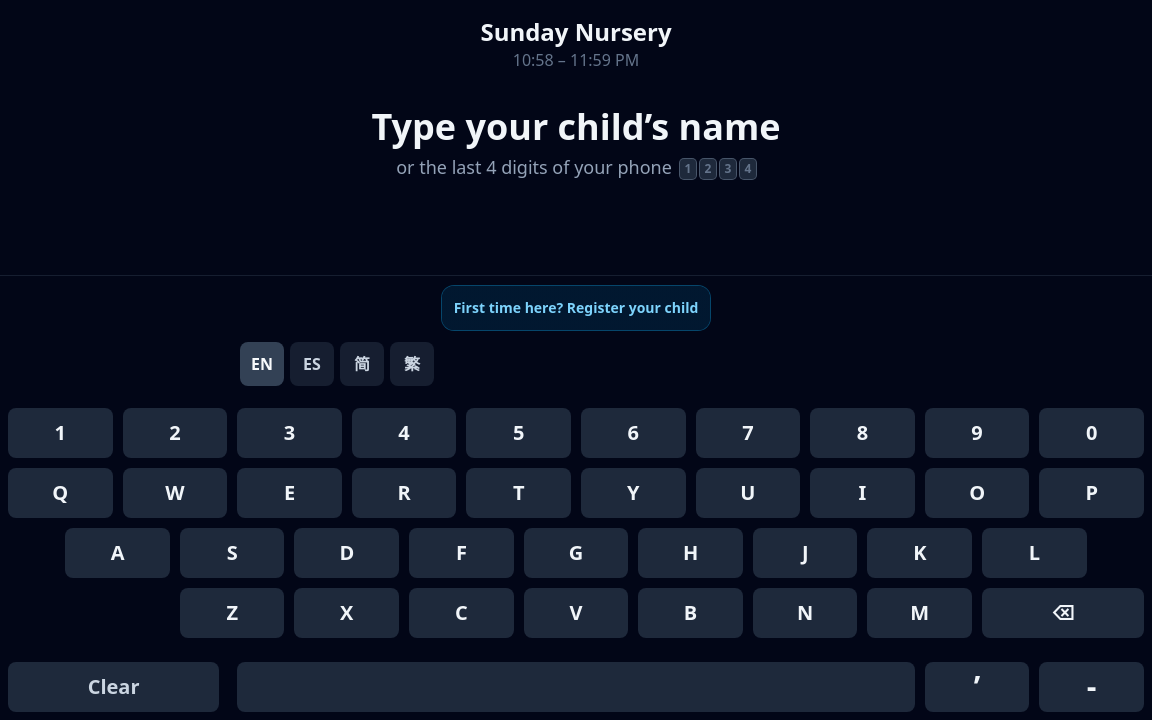
Test: finding a brother or sister the kiosk did not offer › is offered on a check-in
Press the mouse on the button "2" at [175, 433], box [123,408,227,458]
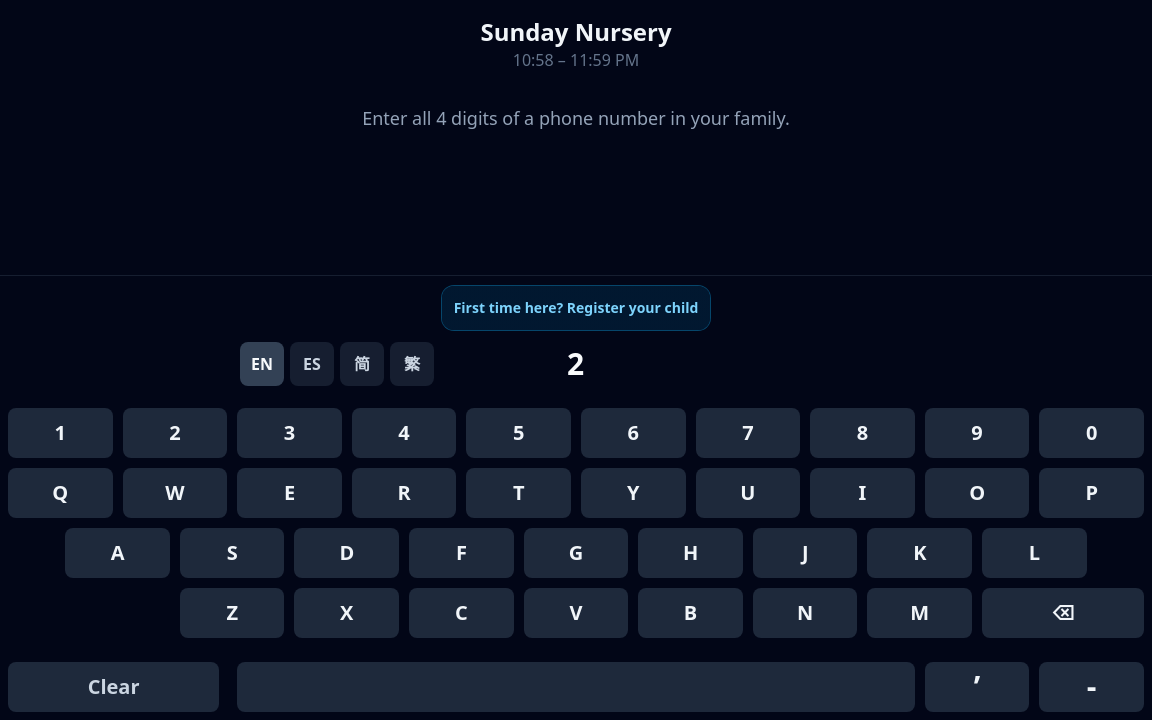
Press the mouse on the button "2" at [175, 433], box [123,408,227,458]
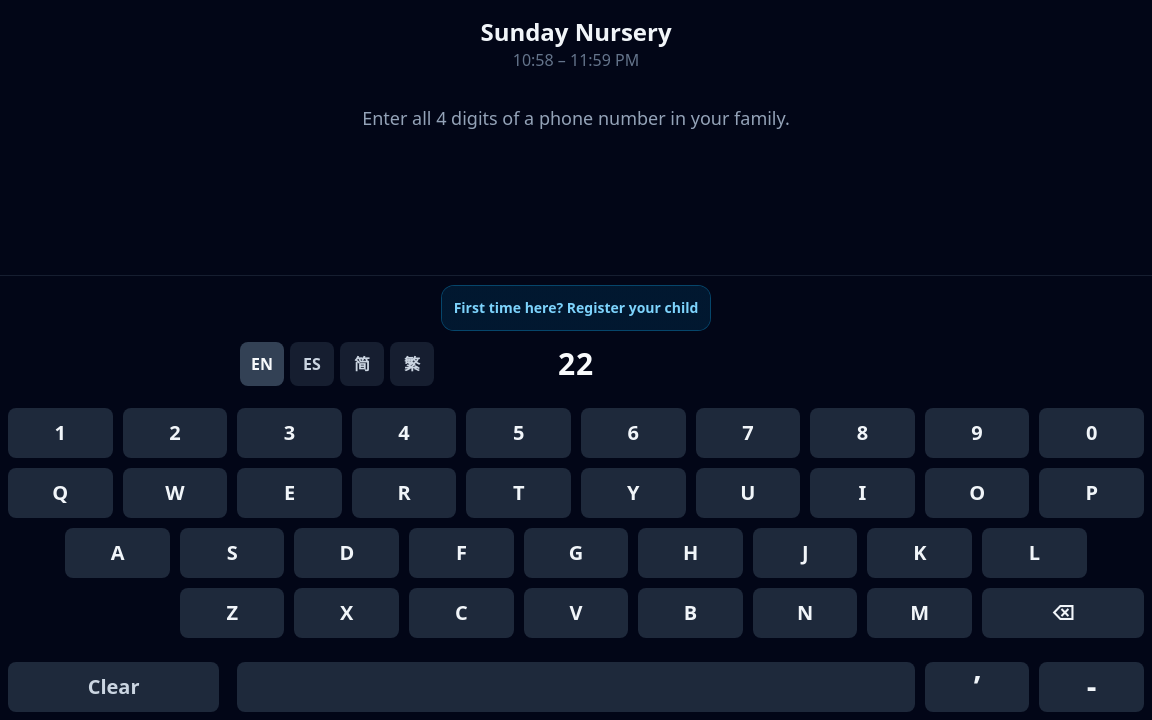
Press the mouse on the button "0" at [1092, 433], box [1039,408,1144,458]
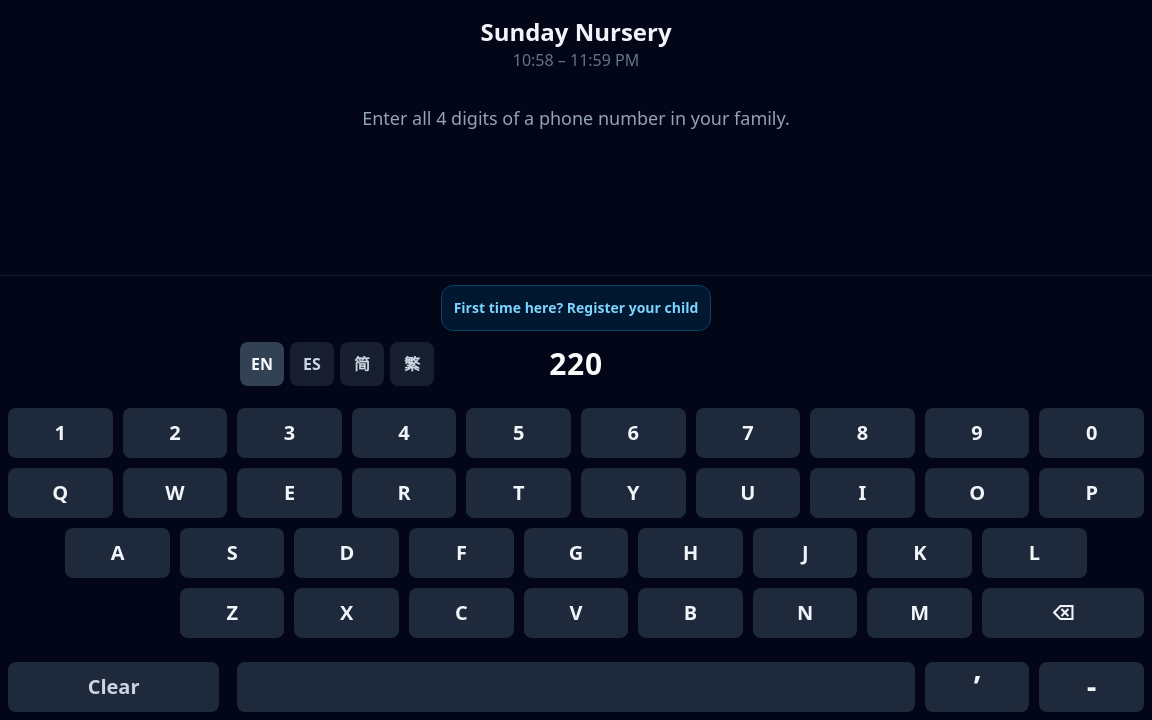
Press the mouse on the button "0" at [1092, 433], box [1039,408,1144,458]
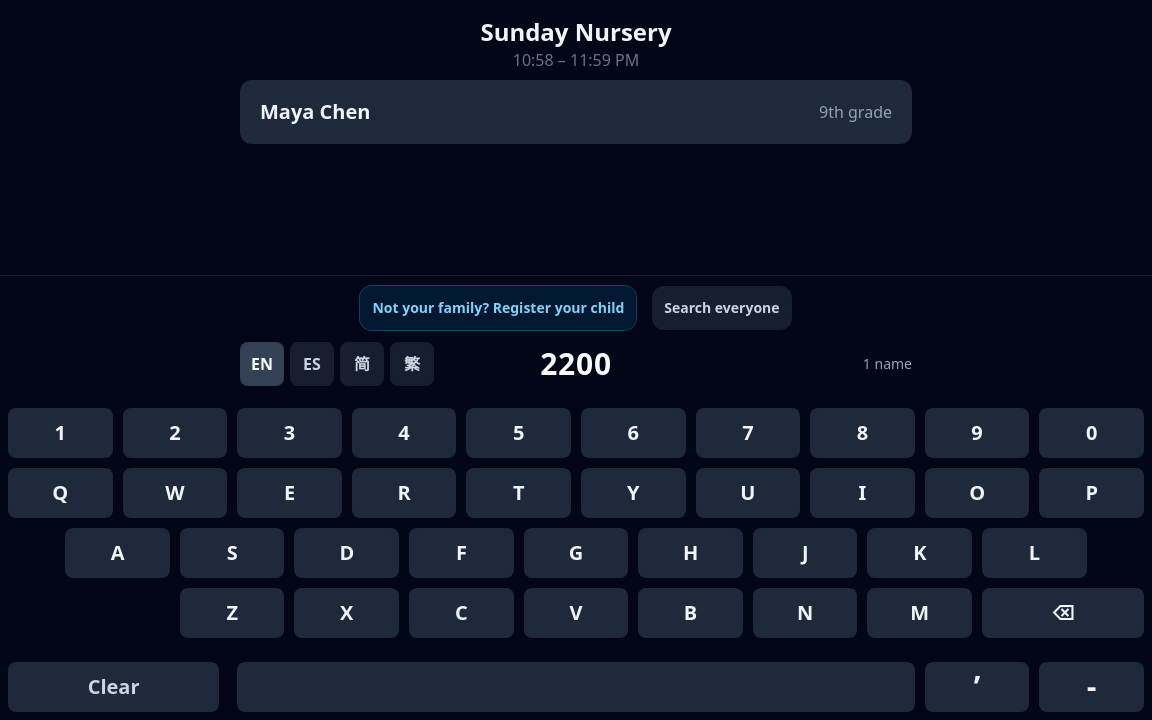
Press the mouse on the button "Maya Chen 9th grade" at [287, 112], box [240,80,912,144]
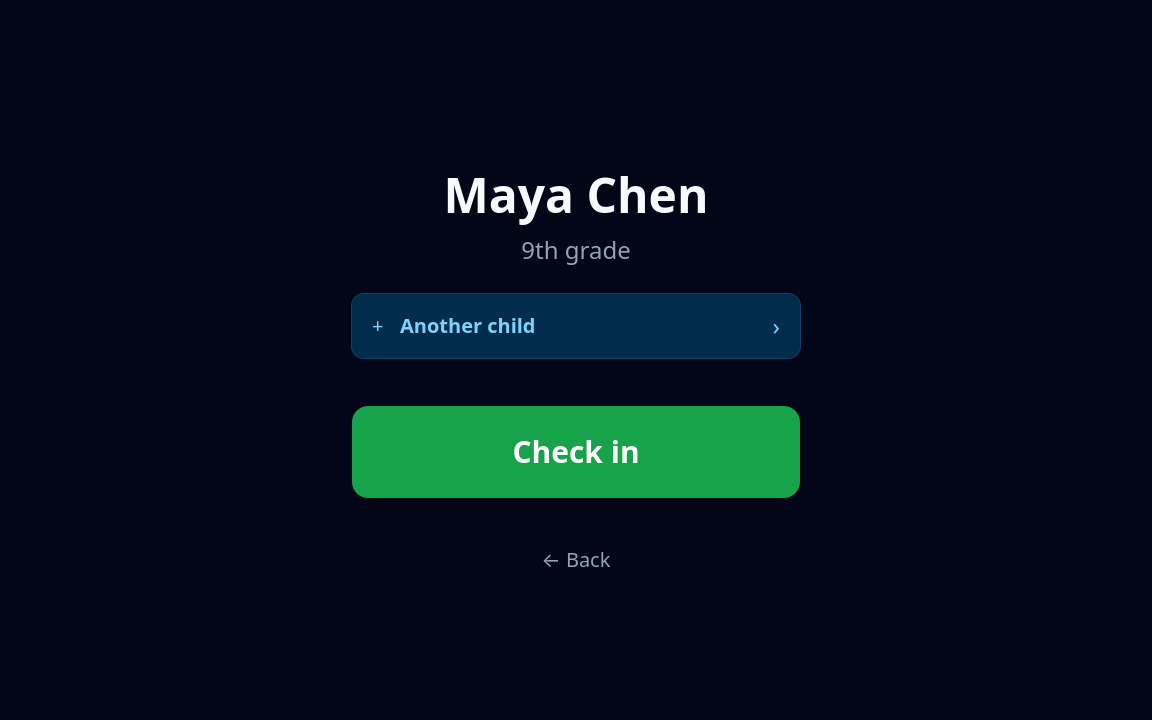
Now the button "+ Another child ›" is shown, box [352,294,800,358]
